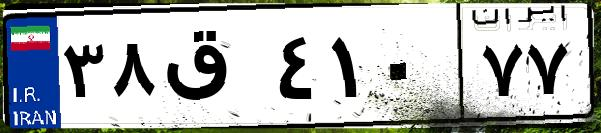0: (385, 28, 445, 110)
1: (330, 28, 385, 110)
3: (57, 26, 110, 100)
4: (270, 28, 330, 110)
7: (475, 38, 525, 113), (525, 38, 570, 115)
8: (110, 28, 158, 98)
ق: (158, 20, 270, 120)
